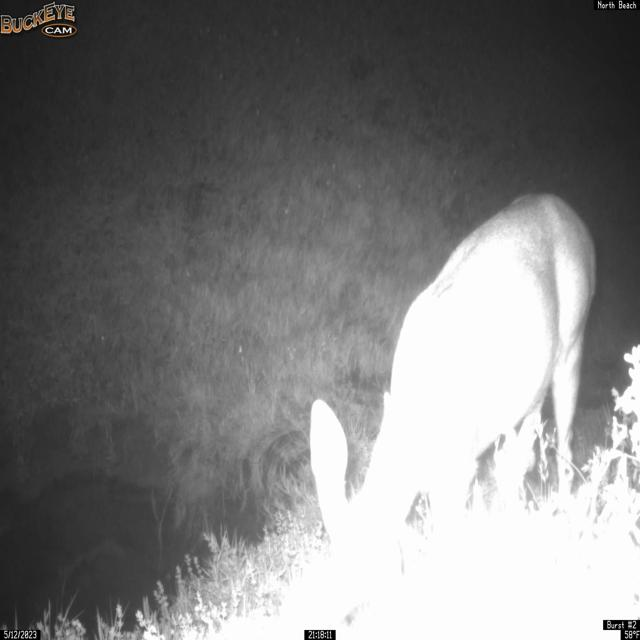deer: (308, 190, 598, 634)
